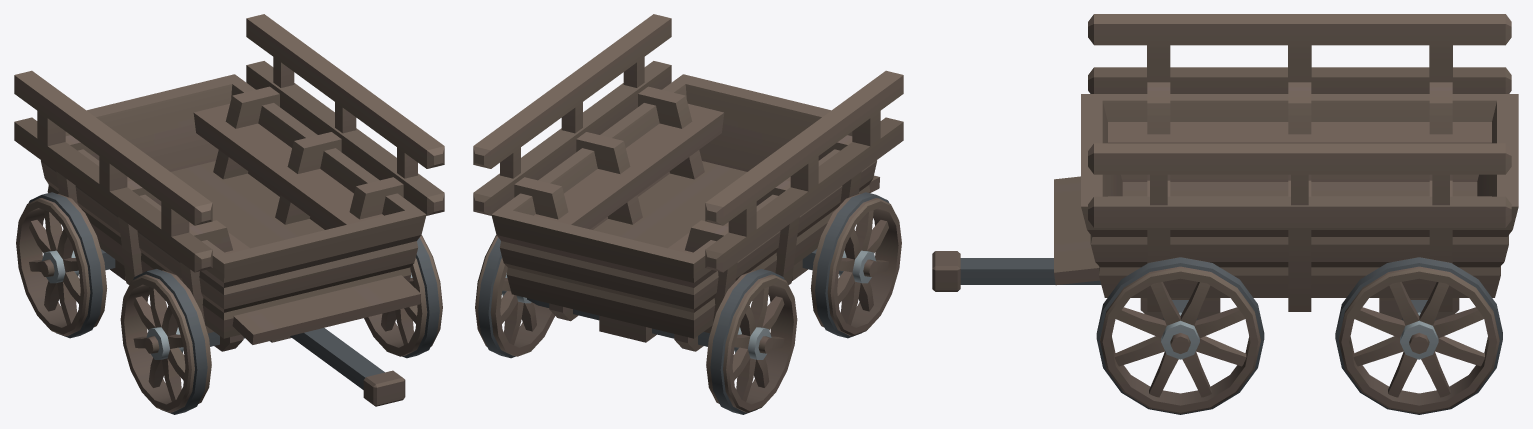
Rendered from wagon.gltf.
3 renders of one model, left to right at view 1: azimuth 30°, elevation 25°; view 2: azimuth 150°, elevation 25°; view 3: azimuth 270°, elevation 25°, orthographic. The views are drawn at different scales.
Parts seen in each view (by area): view 1: wagon, wagon_wheel_rear_right, wagon_wheel_front_right, wagon_wheel_front_left; view 2: wagon, wagon_wheel_front_right, wagon_wheel_rear_right, wagon_wheel_rear_left; view 3: wagon, wagon_wheel_rear_left, wagon_wheel_front_left.
Part boxes in pixels (box(x1,y1,x2,y2)): wagon: box(14, 14, 444, 406); wagon_wheel_rear_right: box(16, 192, 107, 338); wagon_wheel_front_right: box(120, 269, 211, 414); wagon_wheel_front_left: box(364, 235, 442, 358); wagon: box(473, 14, 903, 351); wagon_wheel_front_right: box(810, 192, 901, 338); wagon_wheel_rear_right: box(706, 269, 797, 414); wagon_wheel_rear_left: box(475, 235, 554, 358); wagon: box(932, 14, 1518, 320); wagon_wheel_rear_left: box(1335, 257, 1502, 414); wagon_wheel_front_left: box(1096, 257, 1264, 414).
Bounding box in the file's own units: 2.97 × 2.47 × 4.99.
Materials: 1 (1 with a texture image).
